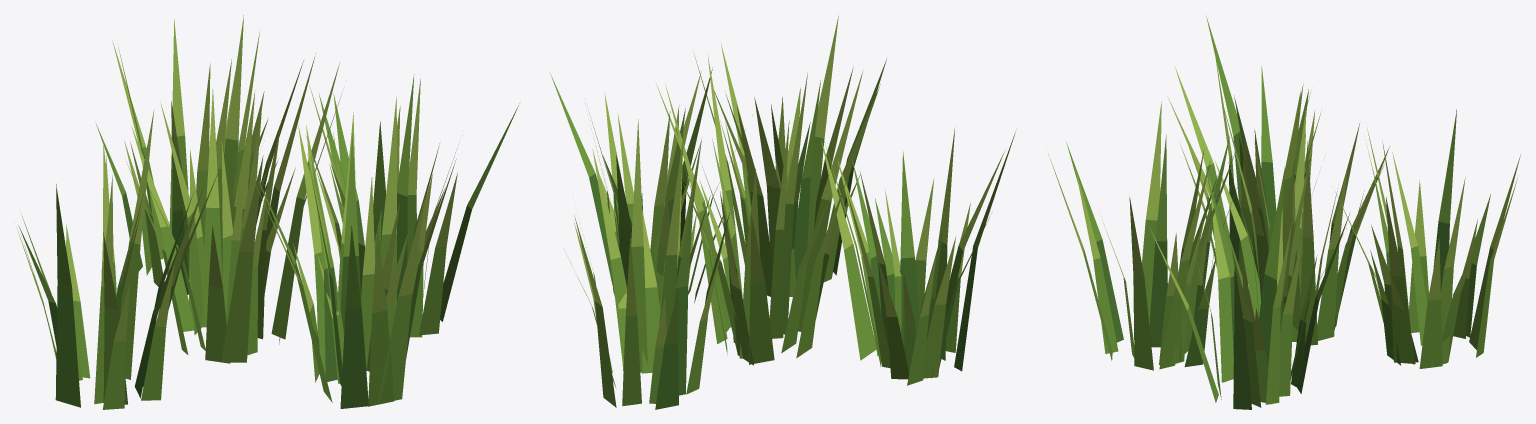
The model's file is G07_CogonPatch.glb.
The picture shows the model from 3 angles, left to right: view 1: azimuth 30°, elevation 25°; view 2: azimuth 150°, elevation 25°; view 3: azimuth 270°, elevation 25°; orthographic projection. The views are drawn at different scales.
Parts seen in each view (by area): view 1: G07_CogonPatch; view 2: G07_CogonPatch; view 3: G07_CogonPatch.
Boxes of the visible parts, x1,y1,x2,y2 form: G07_CogonPatch: [17, 15, 519, 409]; G07_CogonPatch: [550, 14, 1015, 409]; G07_CogonPatch: [1048, 16, 1520, 409].
Size of the model in its own units: 1.86 by 0.9816 by 1.77.
